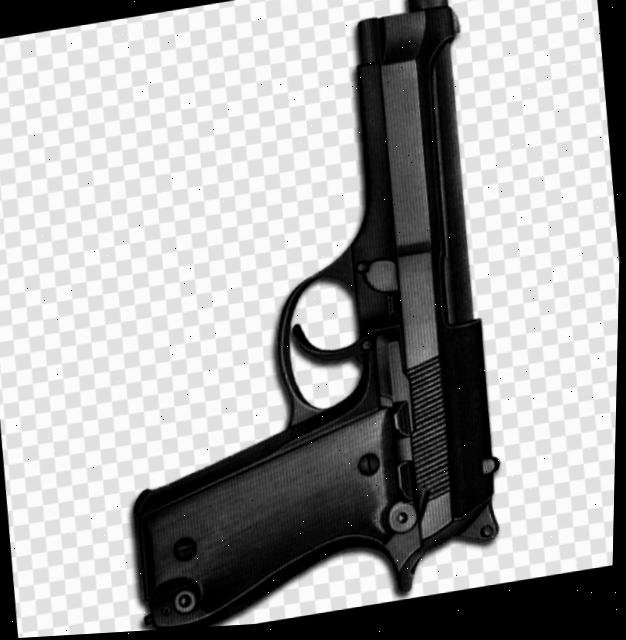pistol: (82, 0, 515, 636)
